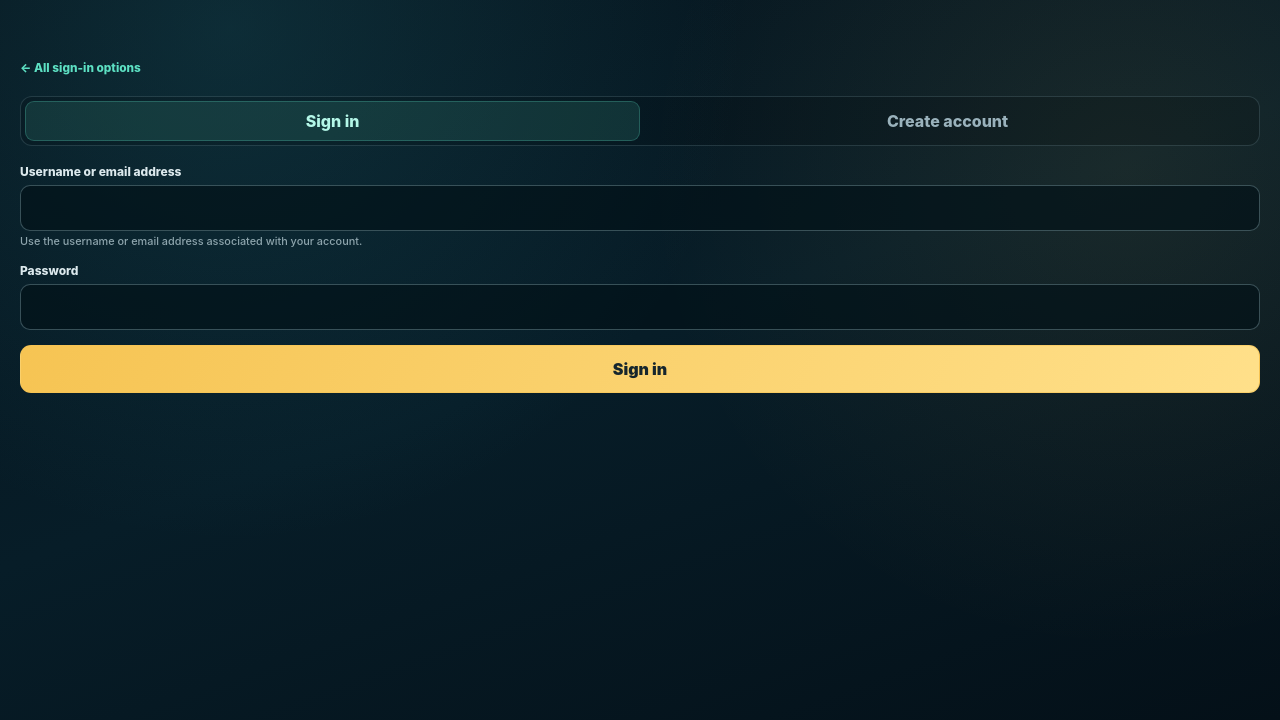
Test case: ManualAuthForm › requires matching strong passwords before registration reaches the backend
The width and height of the screenshot is (1280, 720).
Click the tab "Create account": (948, 121) [640,101,1255,141]
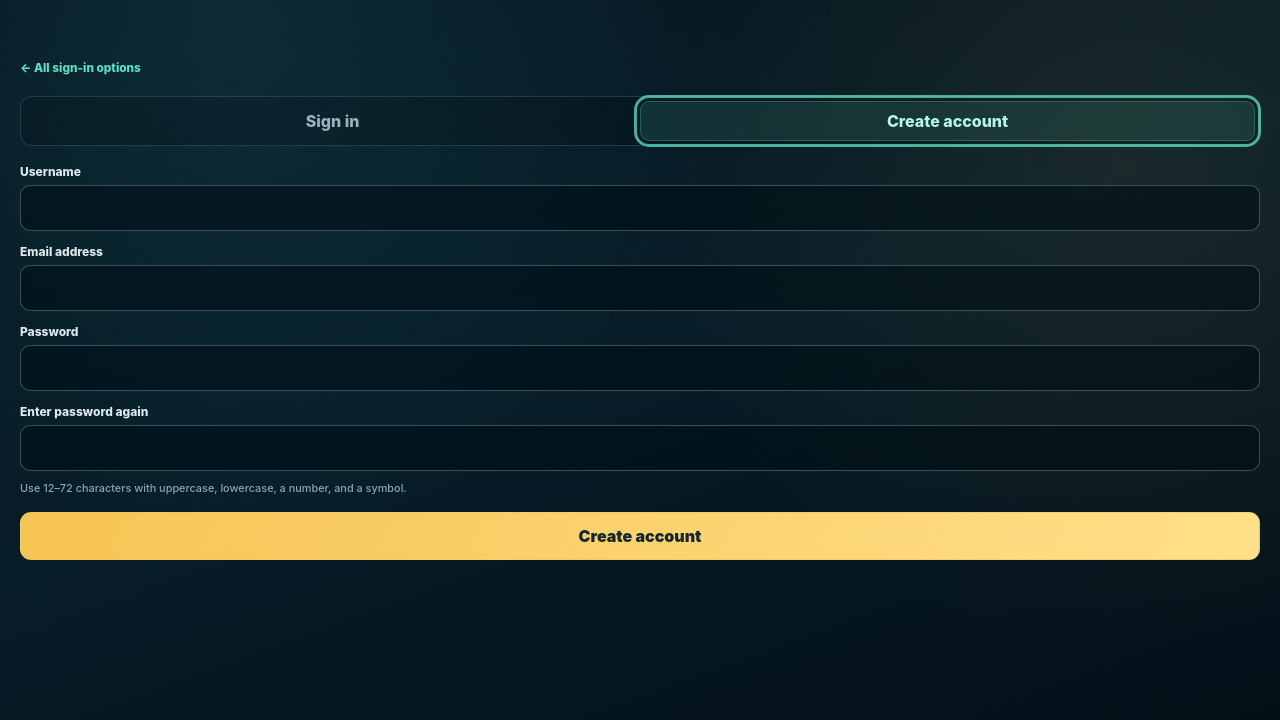
In the field labelled "Username": (640, 208) [20,185,1260,231], type "new-player"
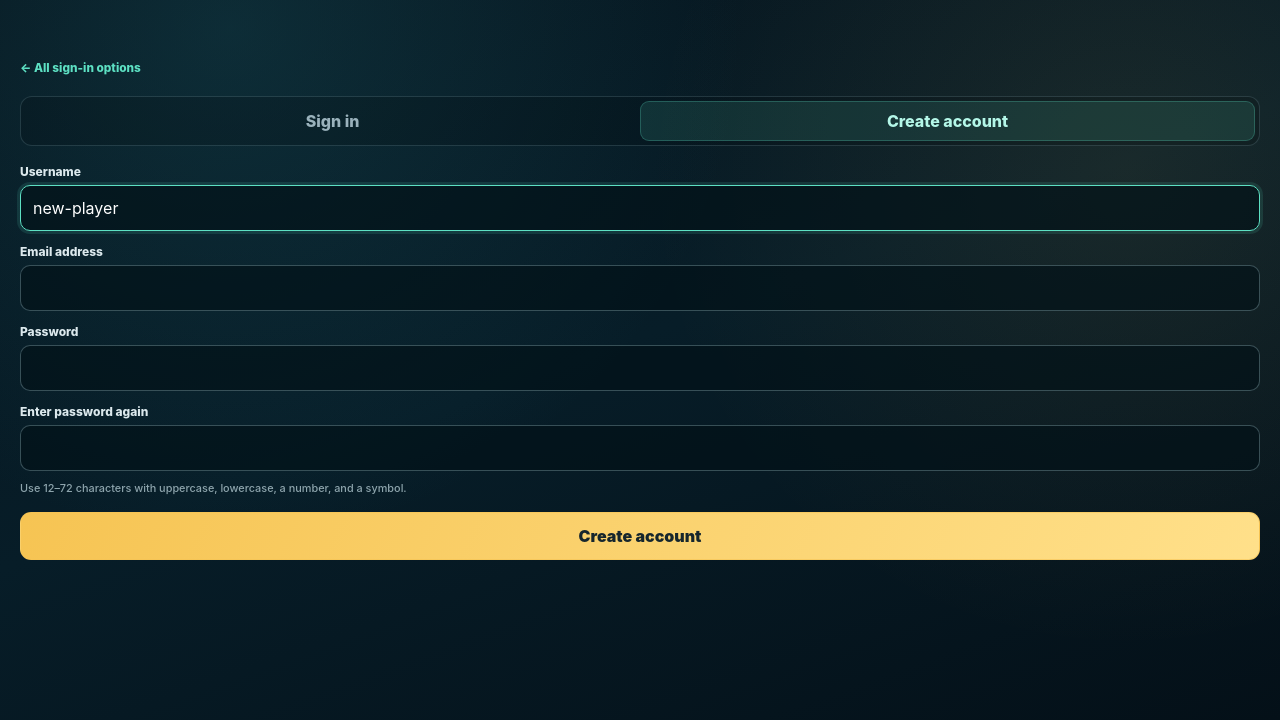
In the field labelled "Email address": (640, 288) [20,265,1260,311], type "new-player@example.com"
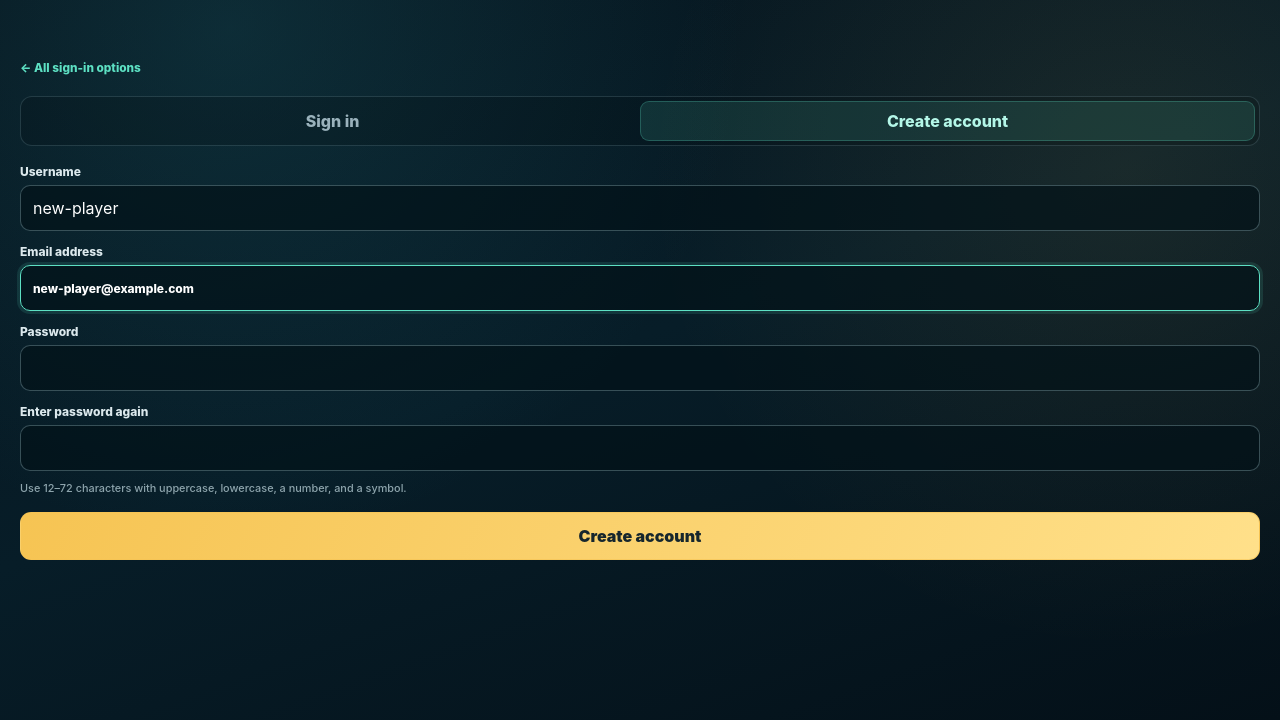
In the password field labelled "Password": (640, 368) [20,345,1260,391], type "StrongPassword1!"
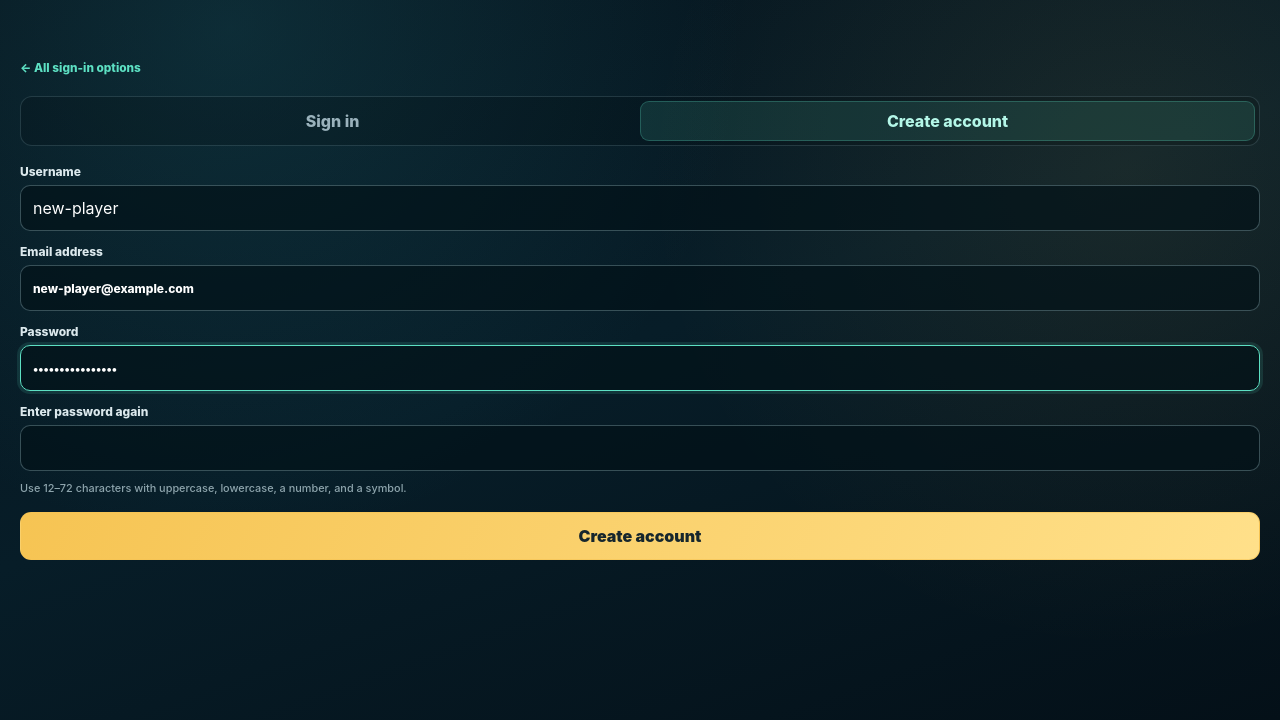
In the password field labelled "Enter password again": (640, 448) [20,425,1260,471], type "DifferentPassword1!"
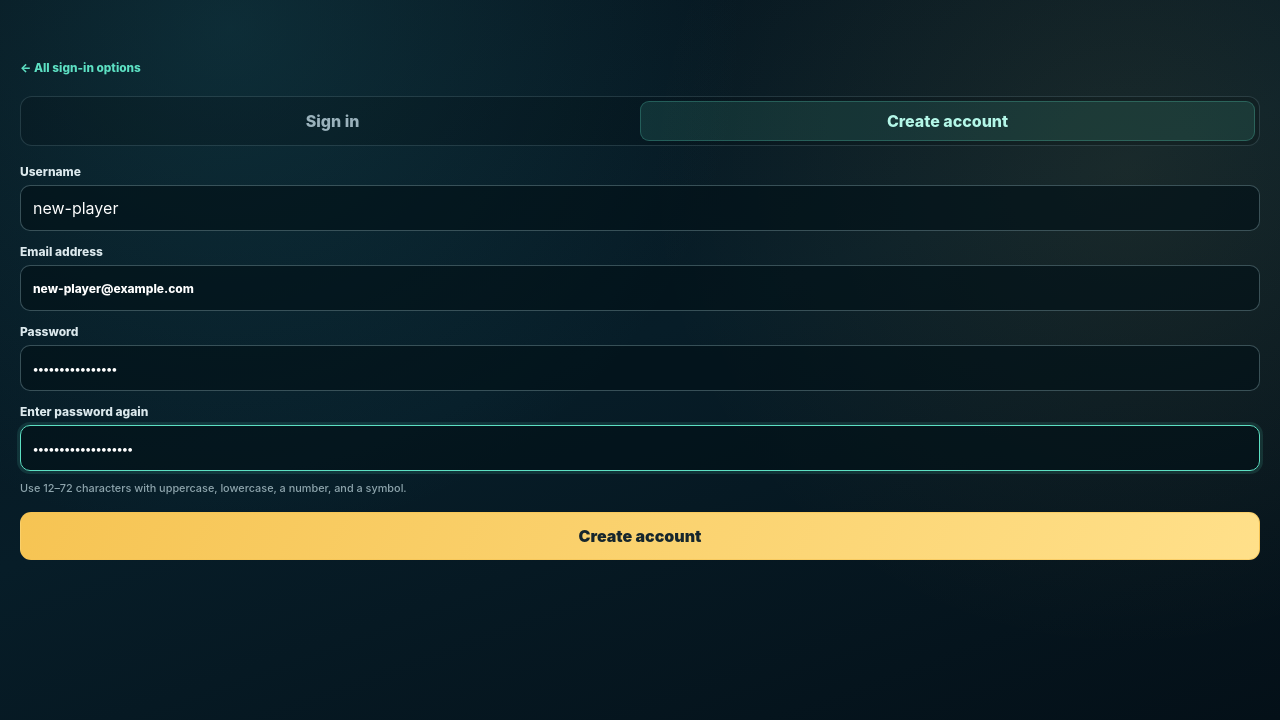
Click the button "Create account": (640, 536) [20,512,1260,560]
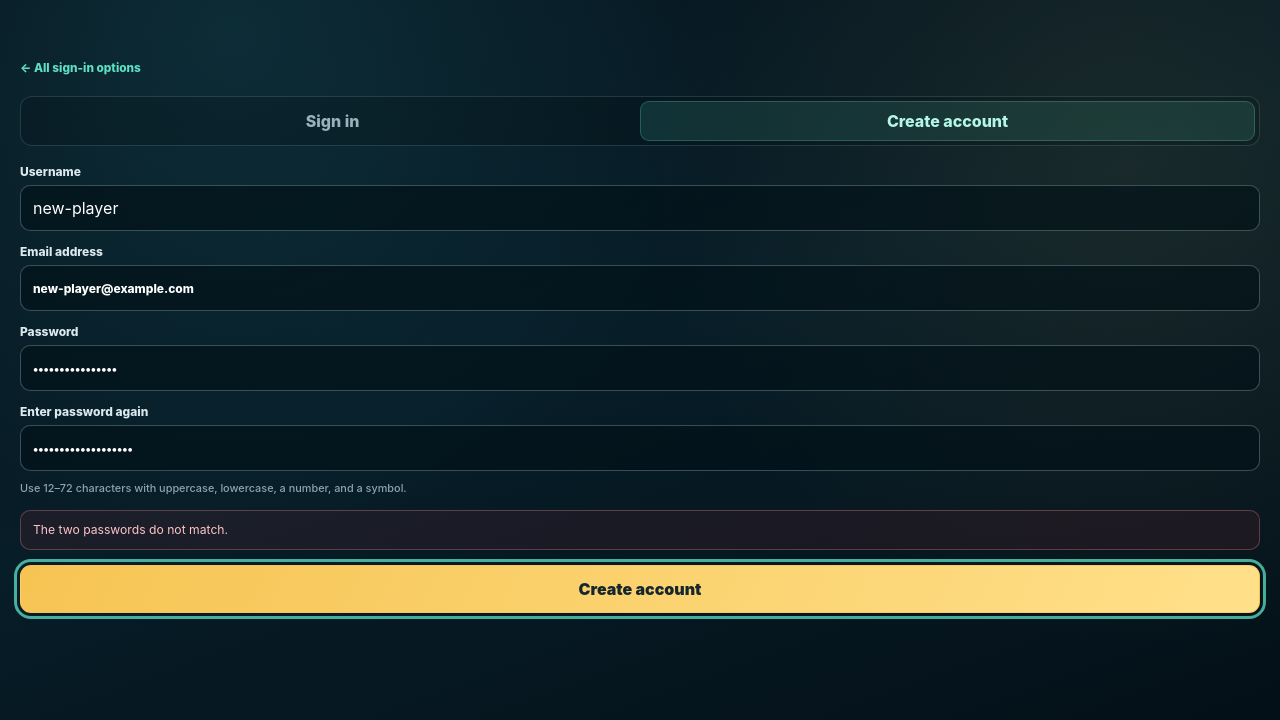
Result: the message reads "The two passwords do not match." at [33,522,228,537]
